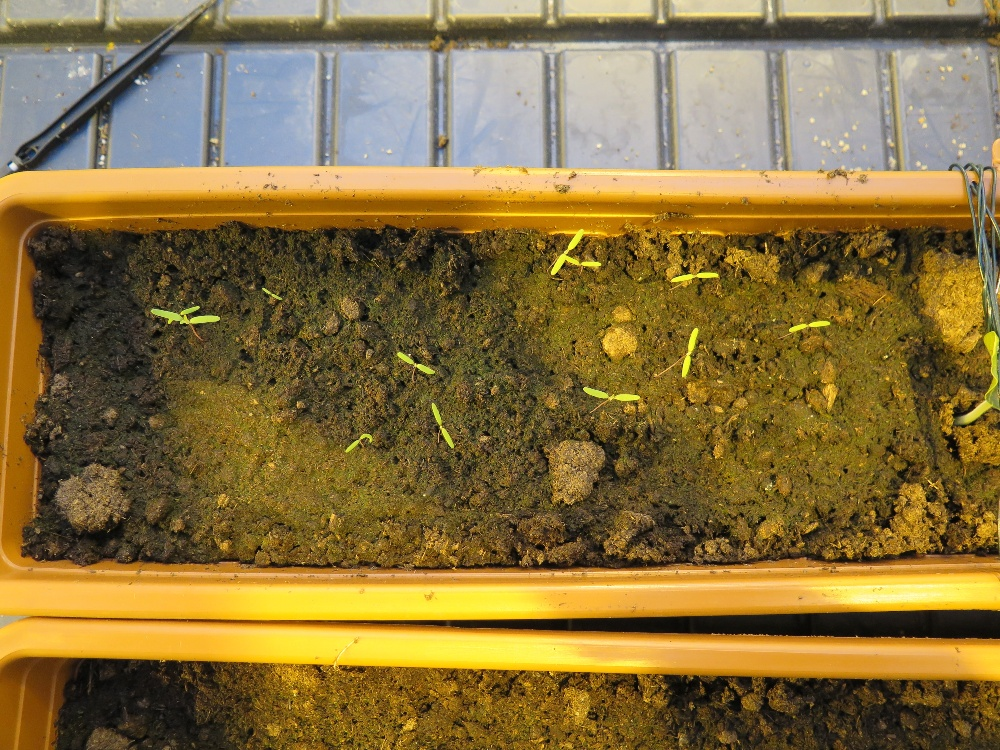weed: (545, 227, 603, 288), (143, 295, 225, 338), (658, 326, 703, 385), (578, 379, 645, 416), (778, 304, 831, 337), (395, 346, 436, 387), (433, 404, 464, 455), (666, 266, 728, 288), (342, 426, 377, 462)
